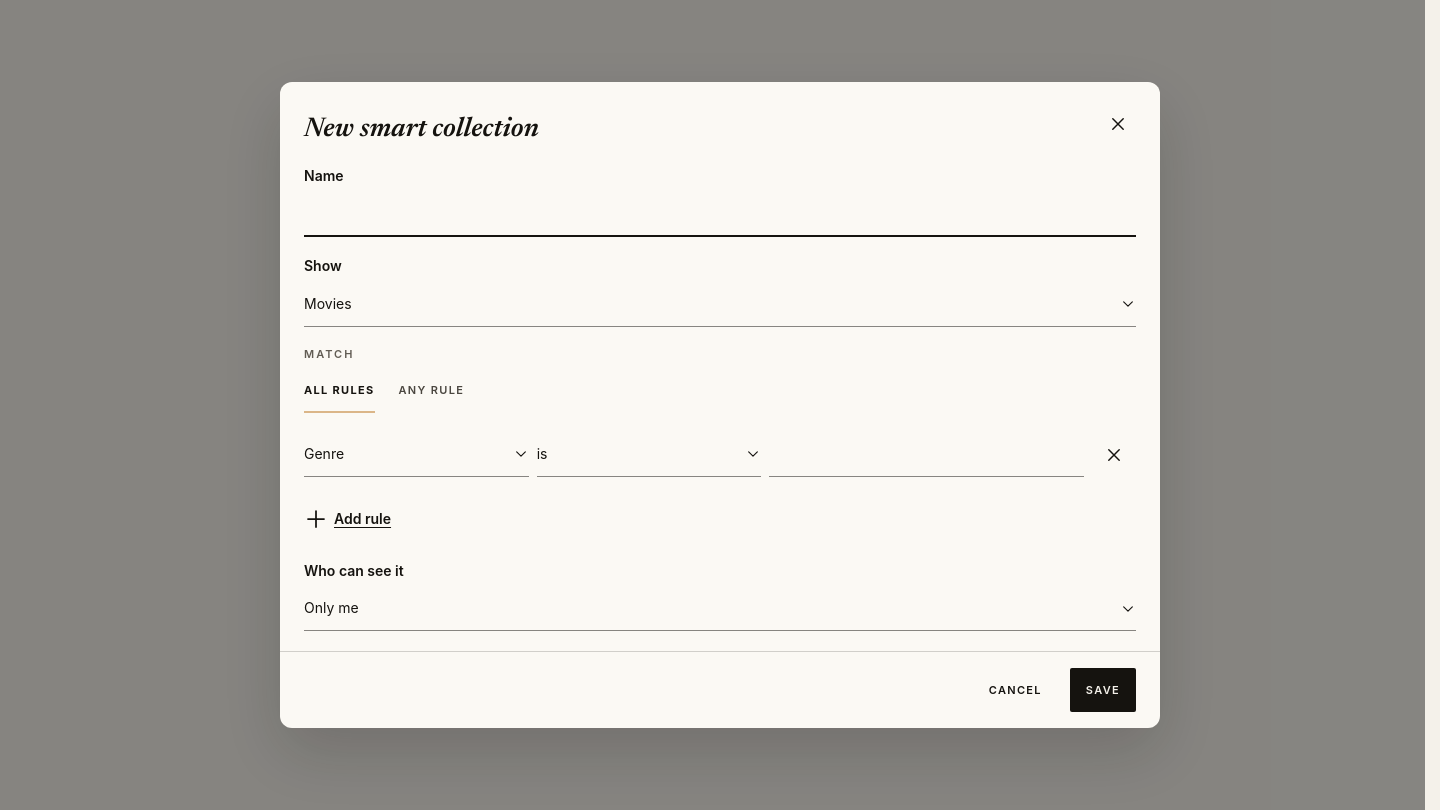
Test: Smart collection builder › is a dialog with Name, Match, rule rows and Add rule
Expected: the field labelled "Name" is shown, [304,192,1136,236]
Expected: the element "Match" is shown, [304,346,464,413]
Step 1. Click the button "Add rule" → click(363, 518), box [304,497,1136,541]
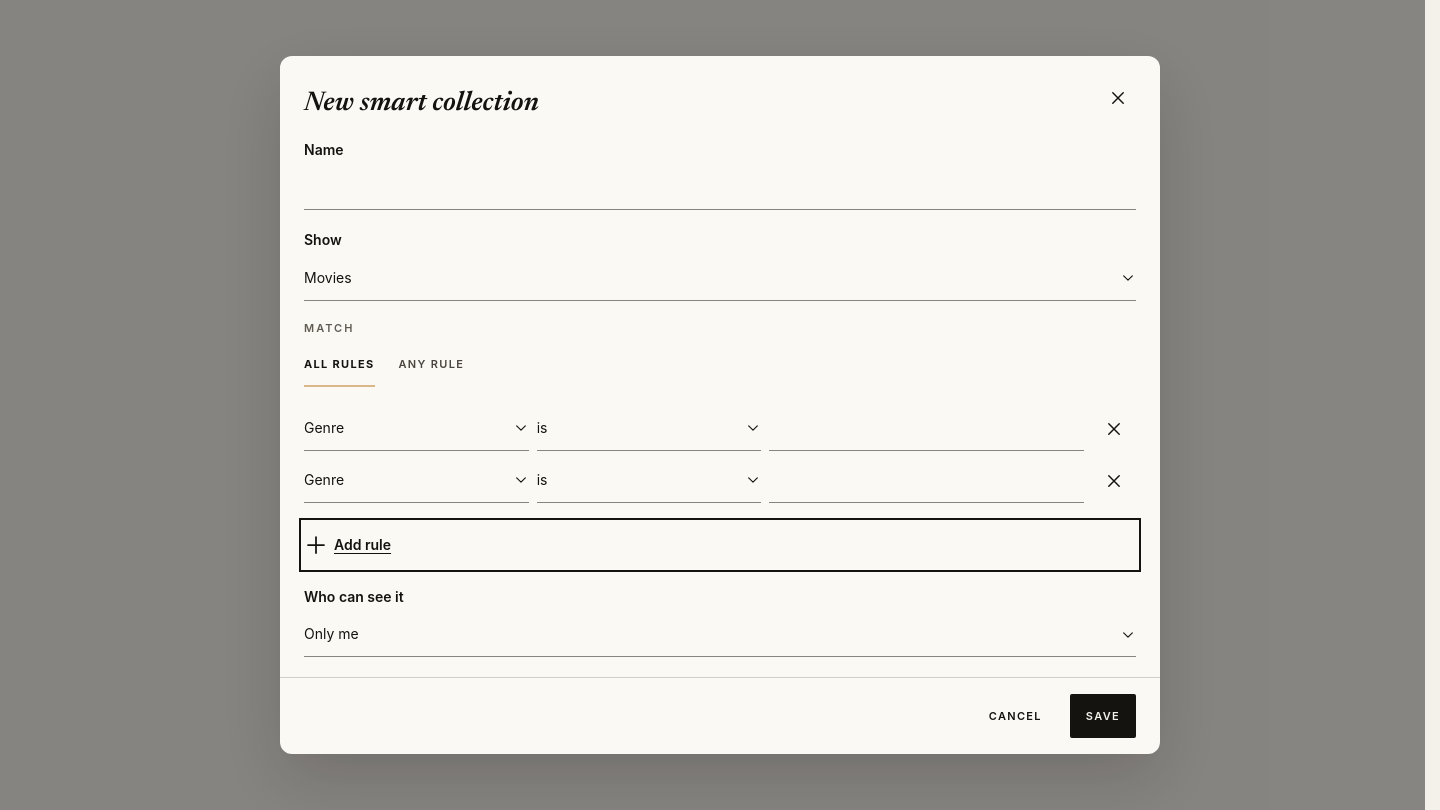
Expected: the number of dropdowns named "Field" is 2, [304,407,529,451]; [304,459,529,503]
Expected: the number of buttons named "Remove rule" is 2, [1092,407,1136,451]; [1092,459,1136,503]
